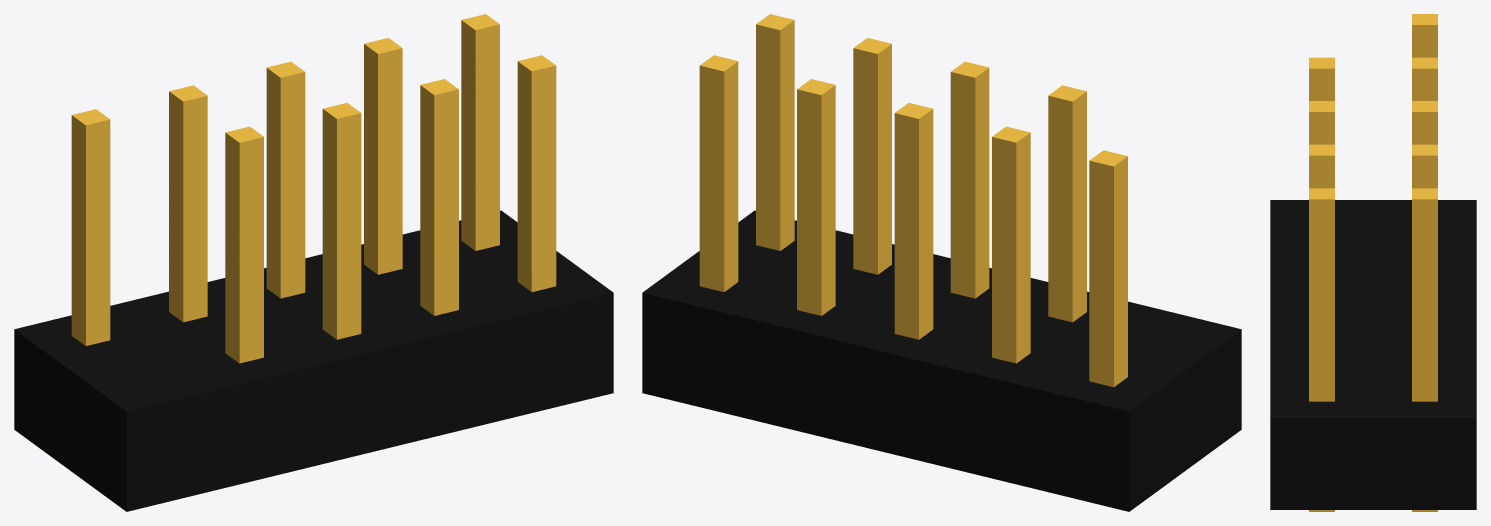
File: FrontPanelHeader 1.obj
3 views of the same model, side by side, from view 1: azimuth 30°, elevation 25°; view 2: azimuth 150°, elevation 25°; view 3: azimuth 270°, elevation 25° (orthographic). The views are drawn at different scales.
Parts seen in each view (by area): view 1: Base, Pin2, Pin5, Pin6, Pin9, Pin1, Pin7, Pin8, Pin3, Pin4; view 2: Base, Pin1, Pin6, Pin5, Pin2, Pin7, Pin8, Pin9, Pin3, Pin4; view 3: Base, Pin1, Pin2, Pin3, Pin4, Pin5, Pin6, Pin7, Pin8, Pin9.
Boxes of the visible parts, x1,y1,x2,y2 form: Base: (14,210,613,511); Pin2: (517,55,556,291); Pin5: (266,61,305,298); Pin6: (322,103,361,339); Pin9: (71,109,110,345); Pin1: (461,14,499,250); Pin7: (169,85,207,322); Pin8: (225,126,263,363); Pin3: (364,38,402,274); Pin4: (420,79,458,315); Base: (642,210,1241,511); Pin1: (699,55,738,291); Pin6: (950,61,989,298); Pin5: (894,103,933,339); Pin2: (756,14,794,250); Pin7: (992,126,1030,363); Pin8: (1048,85,1086,322); Pin9: (1089,150,1127,387); Pin3: (797,79,835,315); Pin4: (853,38,891,274); Base: (1270,200,1476,509); Pin1: (1412,188,1437,511); Pin2: (1309,188,1334,511); Pin3: (1412,144,1437,188); Pin4: (1309,144,1334,188); Pin5: (1412,101,1437,144); Pin6: (1309,101,1334,144); Pin7: (1412,57,1437,100); Pin8: (1309,57,1334,100); Pin9: (1412,14,1437,57).
Size of the model in its own units: 0.0127 by 0.0085 by 0.00508.
